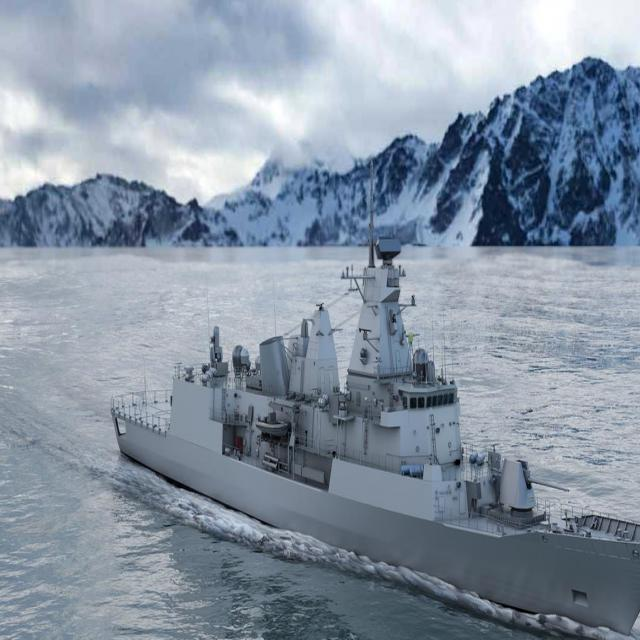Fragata: (1, 140, 456, 640)
